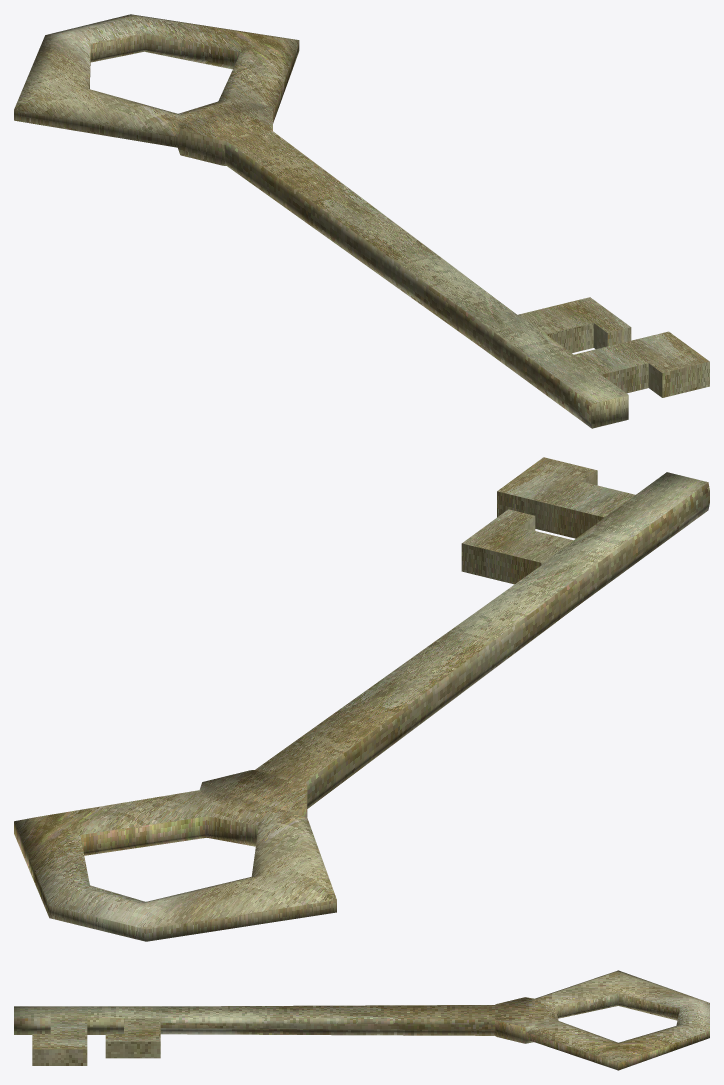
File: gate_key.glb
The picture shows the model from 3 angles, top to bottom: view 1: azimuth 30°, elevation 25°; view 2: azimuth 150°, elevation 25°; view 3: azimuth 270°, elevation 25°; orthographic projection. The views are drawn at different scales.
Visible parts, largest first — view 1: Plane; view 2: Plane; view 3: Plane.
Boxes of the visible parts, left/top/right/bottom form: Plane: left=14, top=14, right=709, bottom=428; Plane: left=14, top=457, right=709, bottom=941; Plane: left=14, top=970, right=709, bottom=1070.
Bounding box in the file's own units: 0.12 × 0.01 × 0.38.
1 material, 1 textured.
